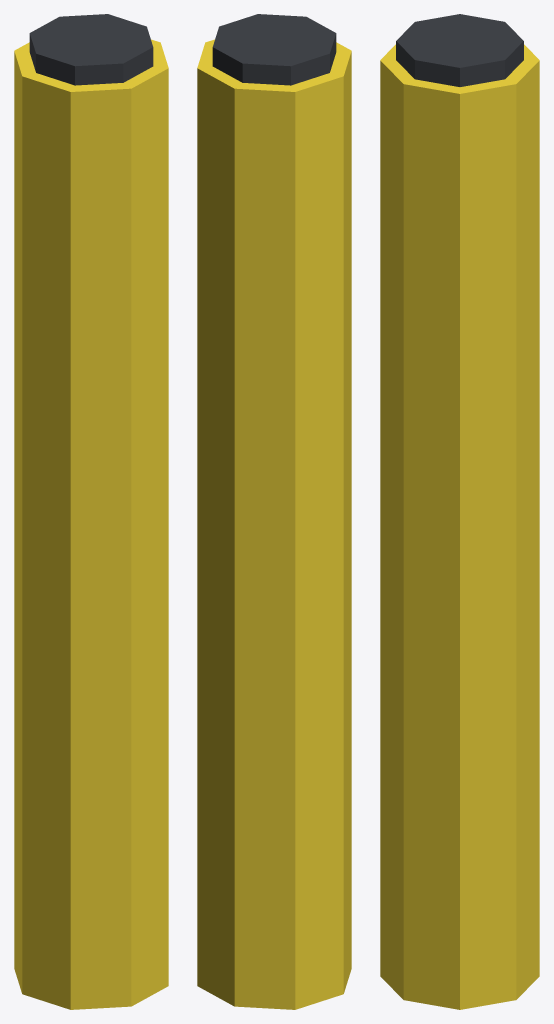
The model's file is site_bollard.fbx.
The picture shows the model from 3 angles, left to right: view 1: azimuth 30°, elevation 25°; view 2: azimuth 150°, elevation 25°; view 3: azimuth 270°, elevation 25°; orthographic projection.
Visible parts, largest first — view 1: a2020/0/site_bollard; view 2: a2020/0/site_bollard; view 3: a2020/0/site_bollard.
Boxes of the visible parts, left/top/right/bottom form: a2020/0/site_bollard: left=14, top=14, right=168, bottom=1009; a2020/0/site_bollard: left=197, top=14, right=351, bottom=1009; a2020/0/site_bollard: left=380, top=14, right=539, bottom=1009.
Bounding box in the file's own units: 0.15 × 0.97 × 0.15.
